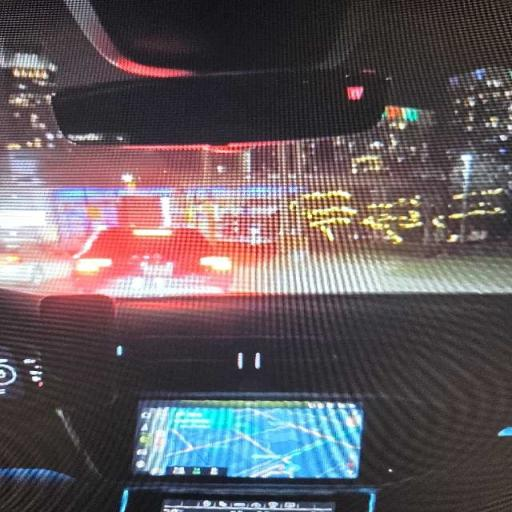car: (0, 0, 511, 511), (73, 228, 232, 295), (0, 244, 71, 288)
